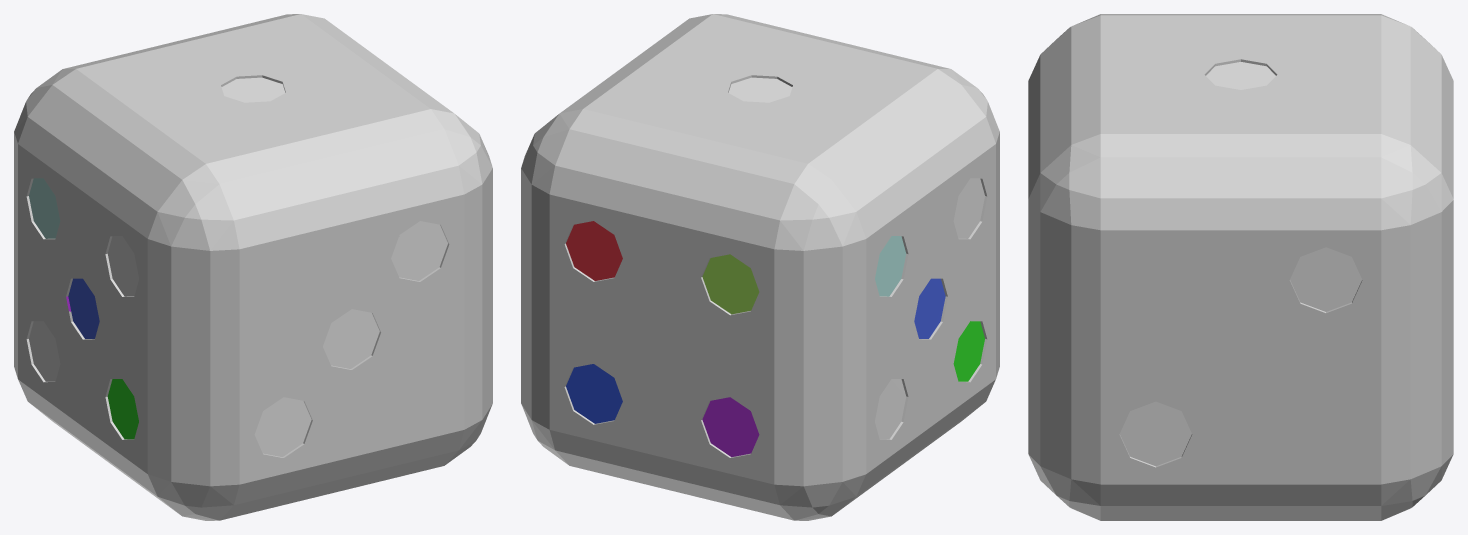
The model's file is dice.fbx.
3 views of the same model, side by side, from view 1: azimuth 30°, elevation 25°; view 2: azimuth 150°, elevation 25°; view 3: azimuth 270°, elevation 25° (orthographic). The views are drawn at different scales.
Visible parts, largest first — view 1: Dice; view 2: Dice; view 3: Dice.
Part boxes in pixels (left/top/right/bottom): Dice: left=14, top=14, right=492, bottom=520; Dice: left=521, top=14, right=999, bottom=520; Dice: left=1028, top=14, right=1453, bottom=520.
Bounding box in the file's own units: 200 × 200 × 200.
